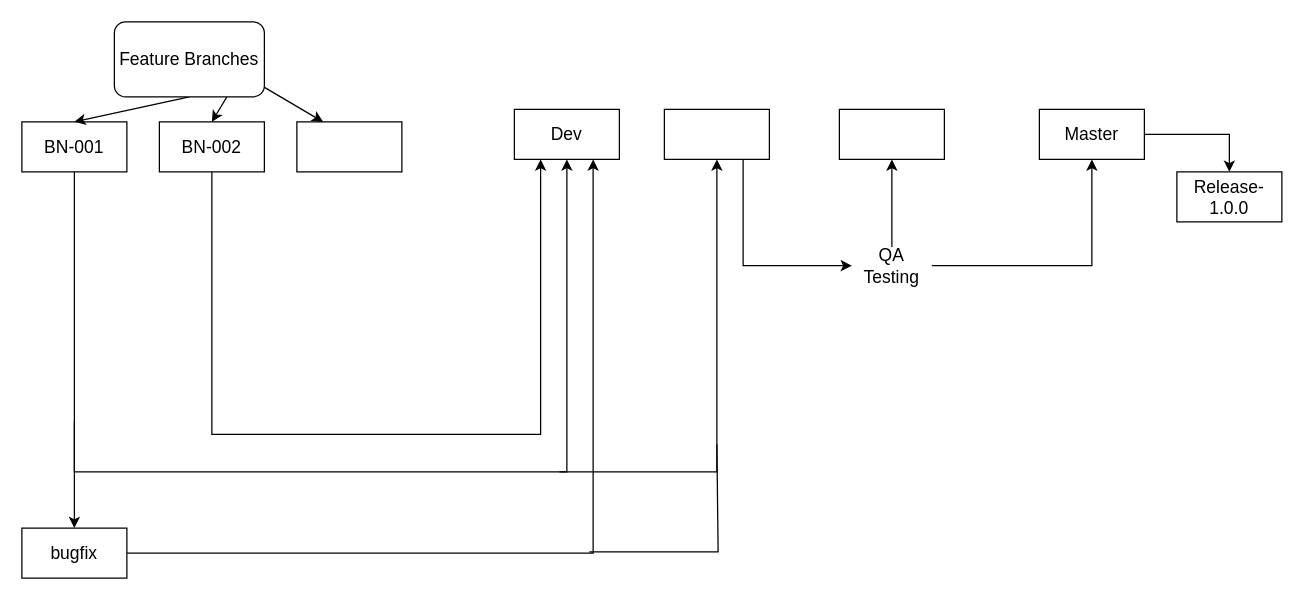
Image size: 1304x600. Some labels were removed from this diagram. The centre of each missing label's shape, as x and y in pixels:
"BN-003" belongs at (349,146).
"Hotfix" belongs at (891,133).
"Release" belongs at (716,133).
